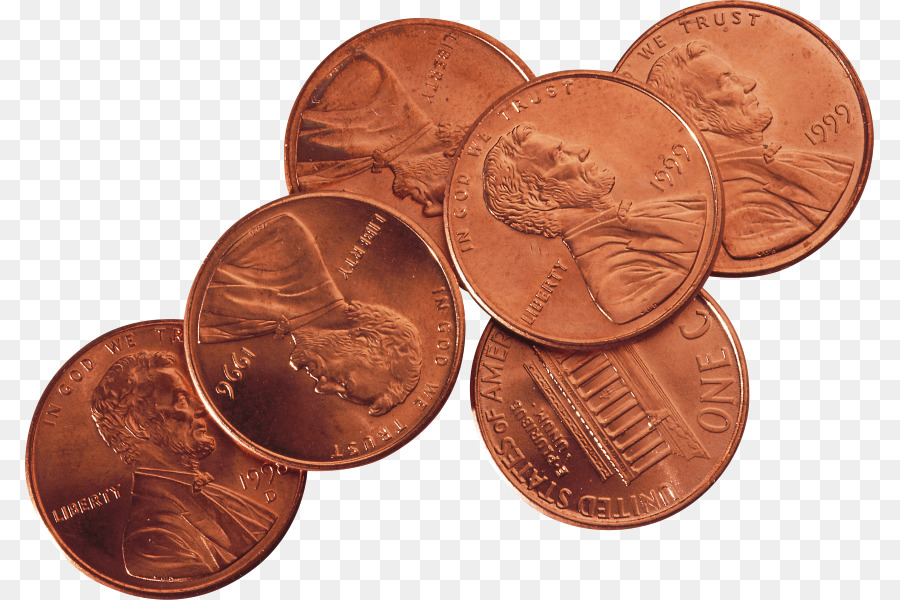coin: (27, 311, 309, 600), (181, 190, 466, 472), (443, 71, 722, 353), (606, 1, 878, 278), (471, 287, 751, 531), (286, 19, 545, 278)
